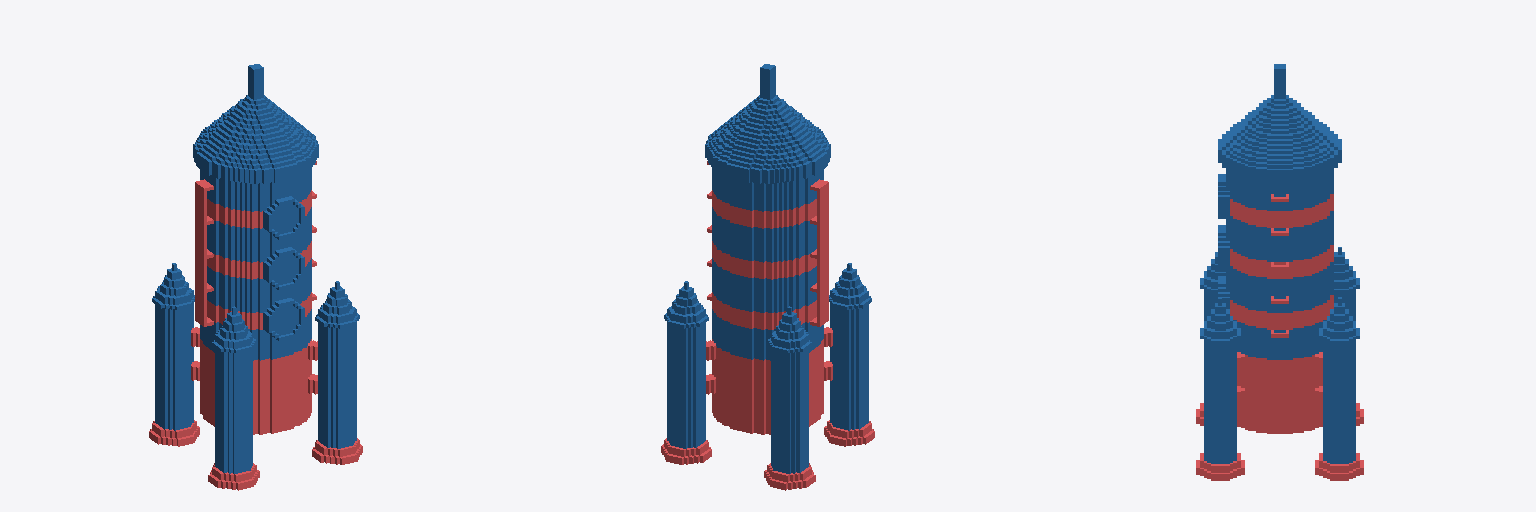
3 views of the same model, side by side, from view 1: azimuth 30°, elevation 25°; view 2: azimuth 150°, elevation 25°; view 3: azimuth 270°, elevation 25° (orthographic).
Visible parts, largest first — view 1: object 1; view 2: object 1; view 3: object 1.
Part boxes in pixels (left/top/right/bottom): object 1: left=149, top=64, right=362, bottom=490; object 1: left=661, top=64, right=874, bottom=490; object 1: left=1196, top=64, right=1363, bottom=480.
Bounding box in the file's own units: 4.5 × 11.2 × 4.5.
Materials: 1 (1 with a texture image).